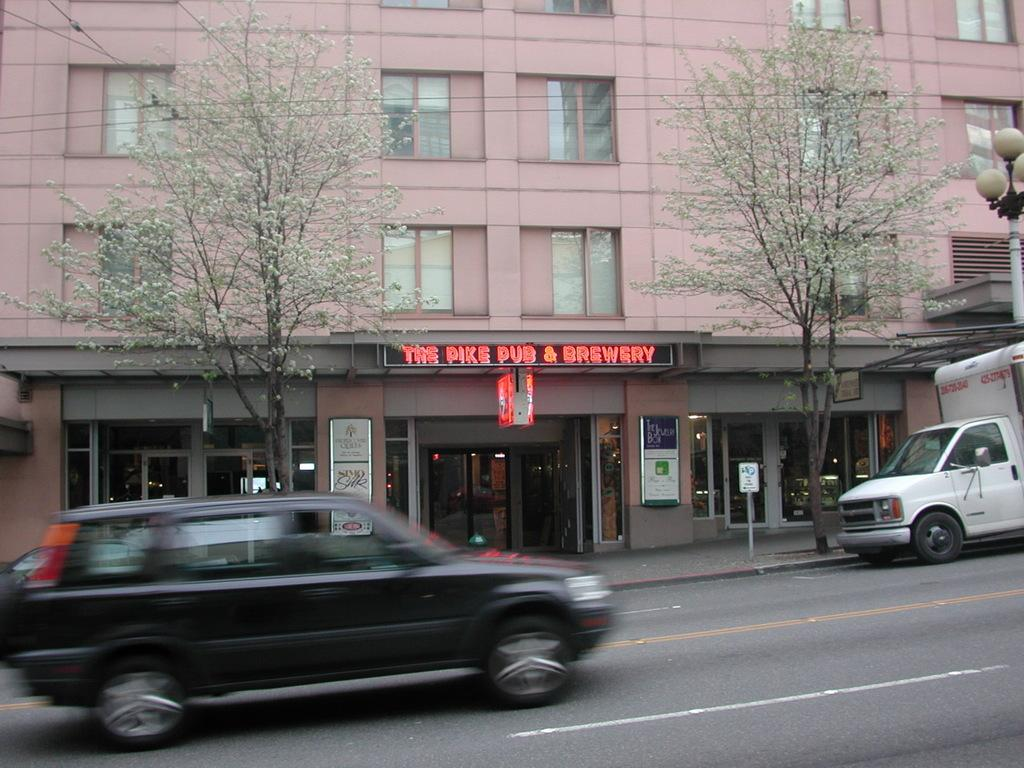vehicle: (2, 491, 611, 750), (837, 339, 1024, 564)
